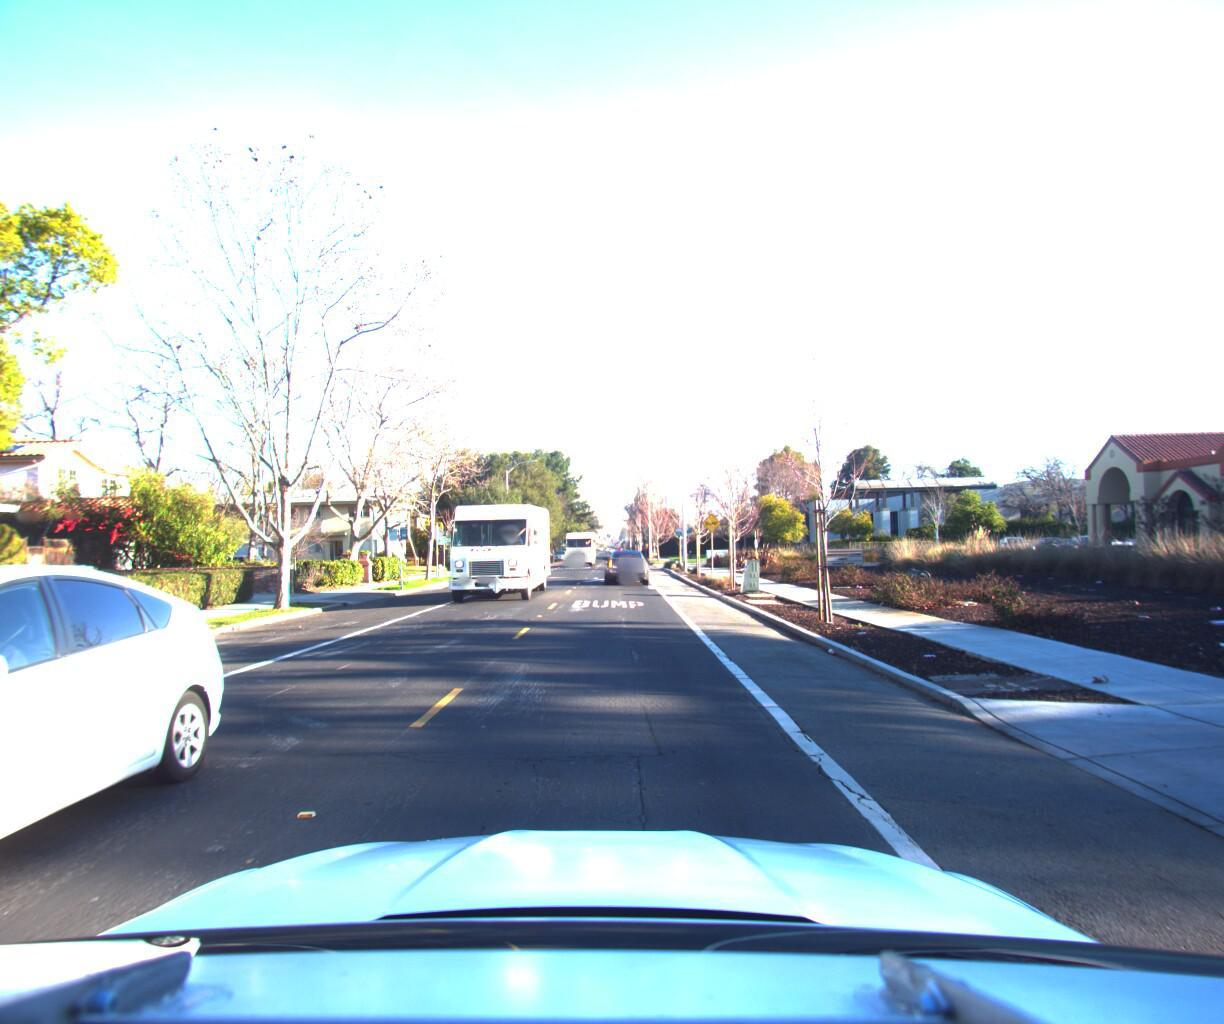car: (0, 547, 257, 1024), (601, 539, 652, 579)
truck: (436, 484, 554, 599), (565, 520, 597, 559)
